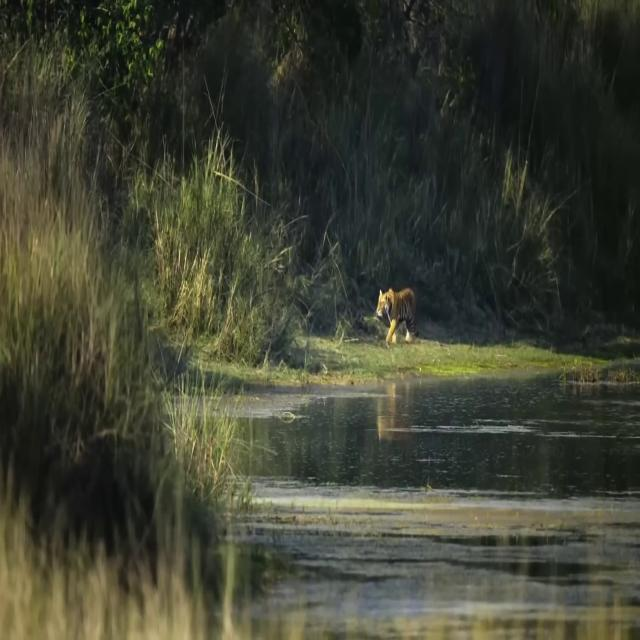tiger: (376, 288, 419, 343)
